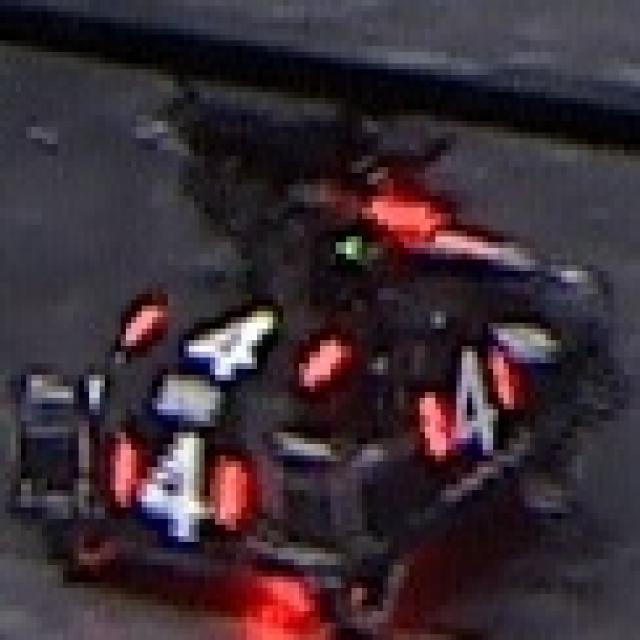R4: (115, 283, 341, 387), (105, 427, 246, 536), (414, 334, 524, 462)
